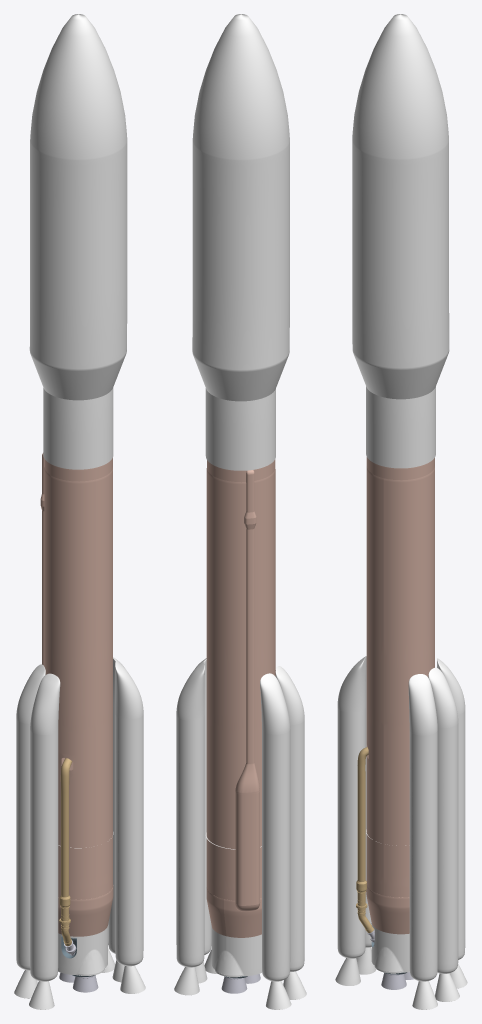
Rendered from atlas_v.glb.
3 renders of one model, left to right at view 1: azimuth 30°, elevation 25°; view 2: azimuth 150°, elevation 25°; view 3: azimuth 330°, elevation 25°, orthographic.
Visible parts, largest first — view 1: Object_4, Object_3, Object_7, Object_8, Object_5, Object_2, Object_9; view 2: Object_4, Object_3, Object_7, Object_8, Object_2, Object_9; view 3: Object_4, Object_3, Object_8, Object_7, Object_5, Object_9, Object_2.
Boxes of the visible parts, <box> form: Object_4: <box>29,14,127,975</box>; Object_3: <box>40,453,113,936</box>; Object_7: <box>14,664,60,1009</box>; Object_8: <box>102,661,145,993</box>; Object_5: <box>59,758,72,946</box>; Object_2: <box>59,940,98,992</box>; Object_9: <box>112,657,125,982</box>; Object_4: <box>192,14,289,977</box>; Object_3: <box>206,459,275,937</box>; Object_7: <box>260,666,306,1009</box>; Object_8: <box>174,662,217,995</box>; Object_2: <box>221,974,260,993</box>; Object_9: <box>195,658,207,983</box>; Object_4: <box>352,14,449,973</box>; Object_3: <box>366,457,434,934</box>; Object_8: <box>408,658,467,1009</box>; Object_7: <box>335,656,376,985</box>; Object_5: <box>356,747,374,933</box>; Object_9: <box>428,667,459,1001</box>; Object_2: <box>367,929,413,989</box>.
Bounding box in the file's own units: 7.31 × 59.95 × 5.45.
